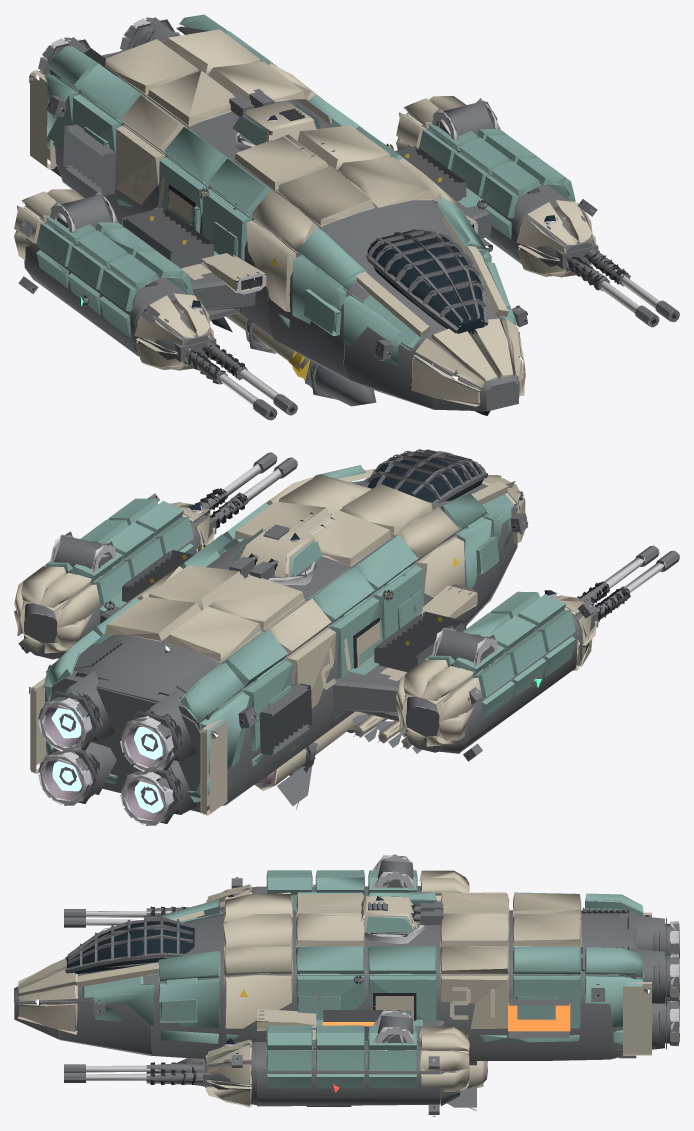
The model's file is interceptor_b_lod.glb.
3 views of the same model, one above another, from view 1: azimuth 30°, elevation 25°; view 2: azimuth 150°, elevation 25°; view 3: azimuth 270°, elevation 25° (orthographic). The views are drawn at different scales.
Parts seen in each view (by area): view 1: interceptor_b; view 2: interceptor_b; view 3: interceptor_b.
Part boxes in pixels (left/top/right/bottom): interceptor_b: left=14, top=14, right=679, bottom=420; interceptor_b: left=14, top=449, right=679, bottom=825; interceptor_b: left=14, top=854, right=679, bottom=1116.
Bounding box in the file's own units: 6.75 × 3.08 × 10.15.
